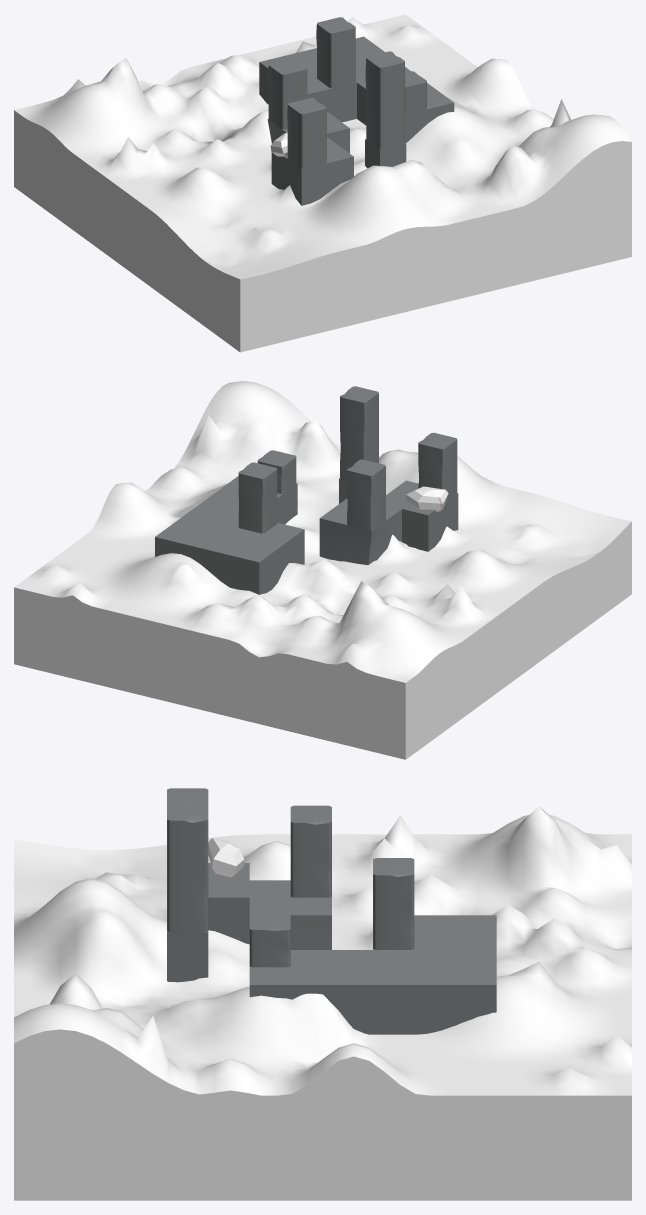
The model's file is peak_columns_easy_env.fbx.
3 views of the same model, one above another, from view 1: azimuth 30°, elevation 25°; view 2: azimuth 150°, elevation 25°; view 3: azimuth 270°, elevation 25° (orthographic). The views are drawn at different scales.
Visible parts, largest first — view 1: cloud, gameplay; view 2: cloud, gameplay; view 3: cloud, gameplay.
Boxes of the visible parts, <box> form: cloud: <box>14,14,631,352</box>; gameplay: <box>259,17,454,205</box>; cloud: <box>14,381,631,759</box>; gameplay: <box>155,386,458,594</box>; cloud: <box>14,807,631,1200</box>; gameplay: <box>167,788,496,1034</box>.
Bounding box in the file's own units: 150 × 72.15 × 150.
